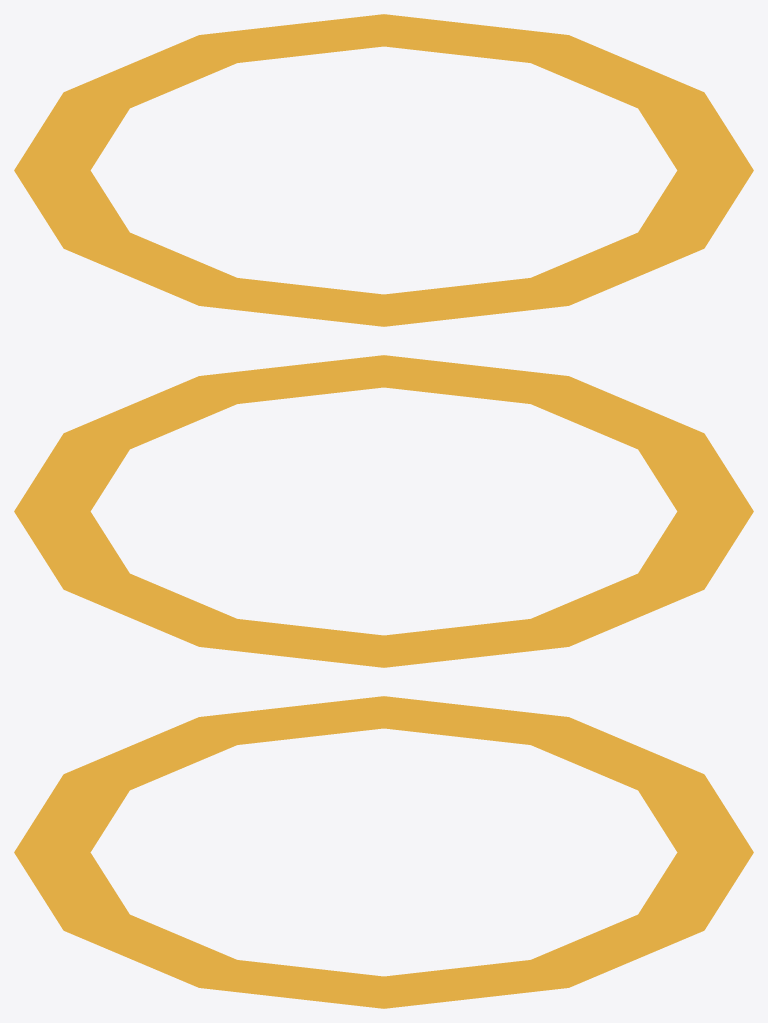
File: indicator-round-b.glb
3 renders of one model, top to bottom at view 1: azimuth 30°, elevation 25°; view 2: azimuth 150°, elevation 25°; view 3: azimuth 270°, elevation 25°, orthographic.
Parts seen in each view (by area): view 1: rotate-y; view 2: rotate-y; view 3: rotate-y.
Boxes of the visible parts, bbox=[...] form: rotate-y: bbox=[14, 14, 753, 326]; rotate-y: bbox=[14, 355, 753, 667]; rotate-y: bbox=[14, 696, 753, 1008].
Bounding box in the file's own units: 1 × 0 × 1.
1 material, 1 textured.
